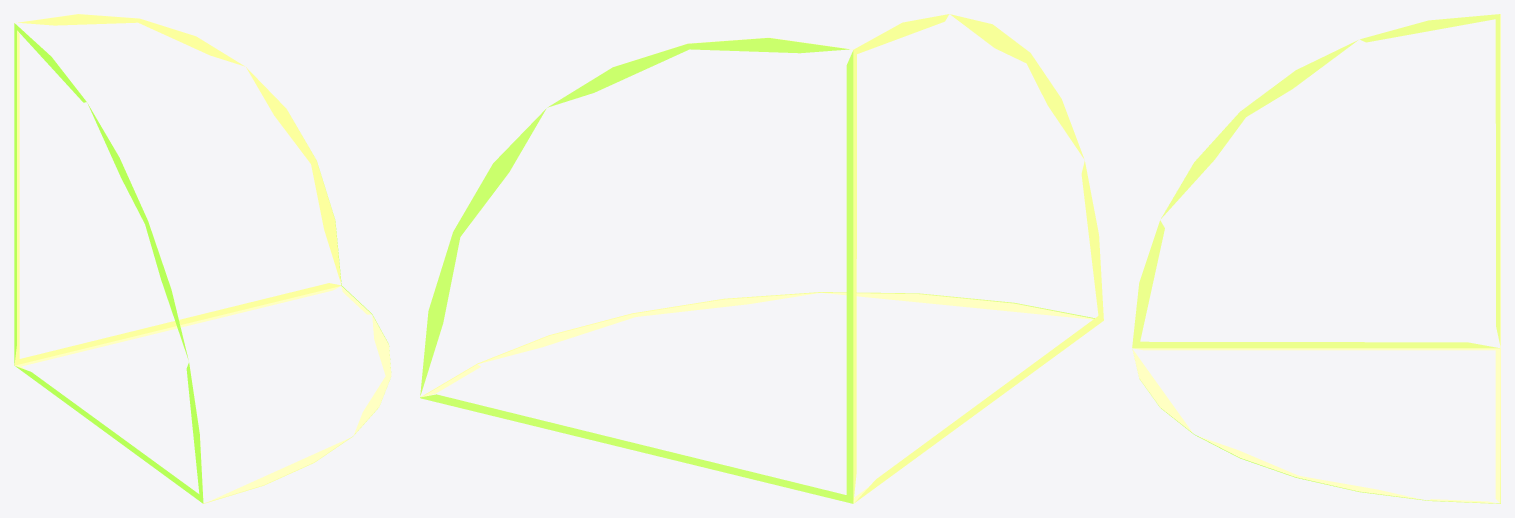
The model's file is r4c1_highlight_green.glb.
3 views of the same model, side by side, from view 1: azimuth 30°, elevation 25°; view 2: azimuth 150°, elevation 25°; view 3: azimuth 270°, elevation 25° (orthographic). The views are drawn at different scales.
Visible parts, largest first — view 1: r4c1_highlight_green; view 2: r4c1_highlight_green; view 3: r4c1_highlight_green.
Part boxes in pixels (<box>): r4c1_highlight_green: <box>14,14,391,503</box>; r4c1_highlight_green: <box>420,14,1103,503</box>; r4c1_highlight_green: <box>1132,14,1500,503</box>.
Size of the model in its own units: 2 by 2 by 2.
